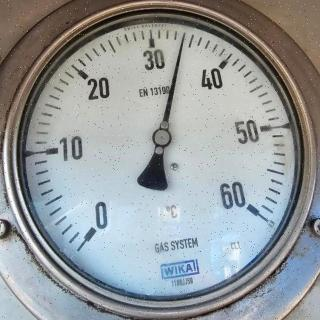gauge: (0, 0, 320, 320), (70, 212, 112, 252), (228, 189, 268, 225), (152, 126, 172, 148), (179, 29, 189, 43)
